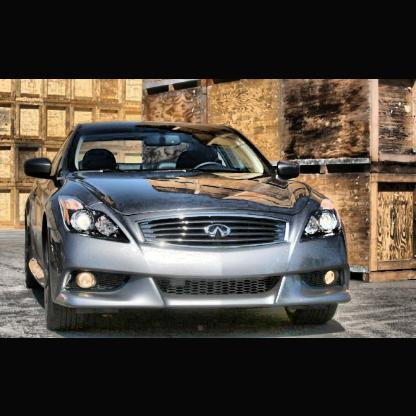Infiniti G Coupe IPL 2012: (25, 122, 354, 333)
